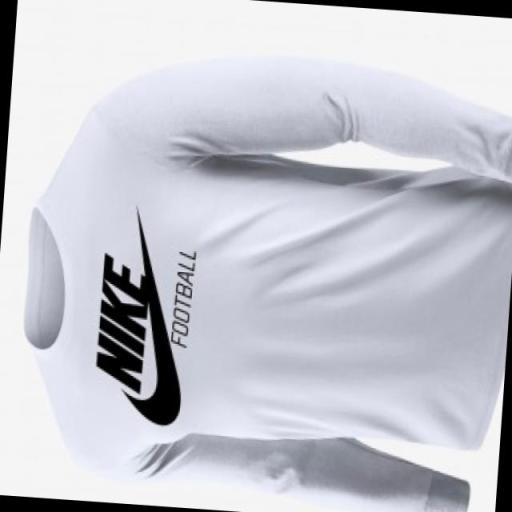Nike: (128, 224, 194, 428), (92, 250, 152, 394)
